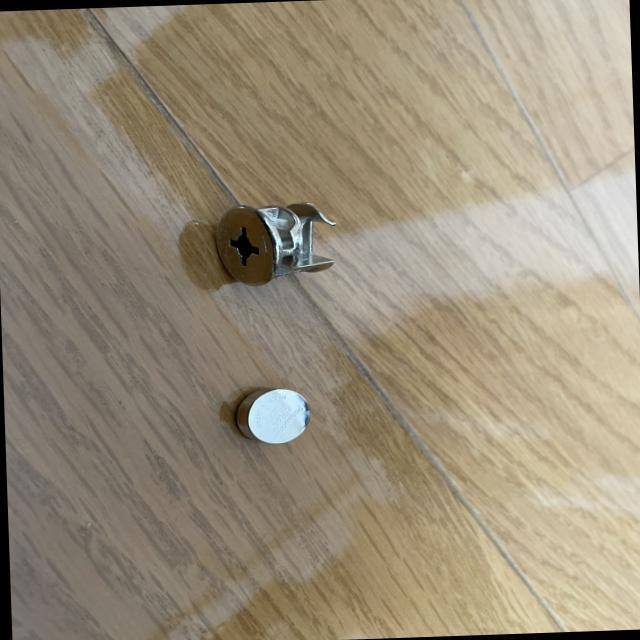COIN: (232, 384, 312, 444)
